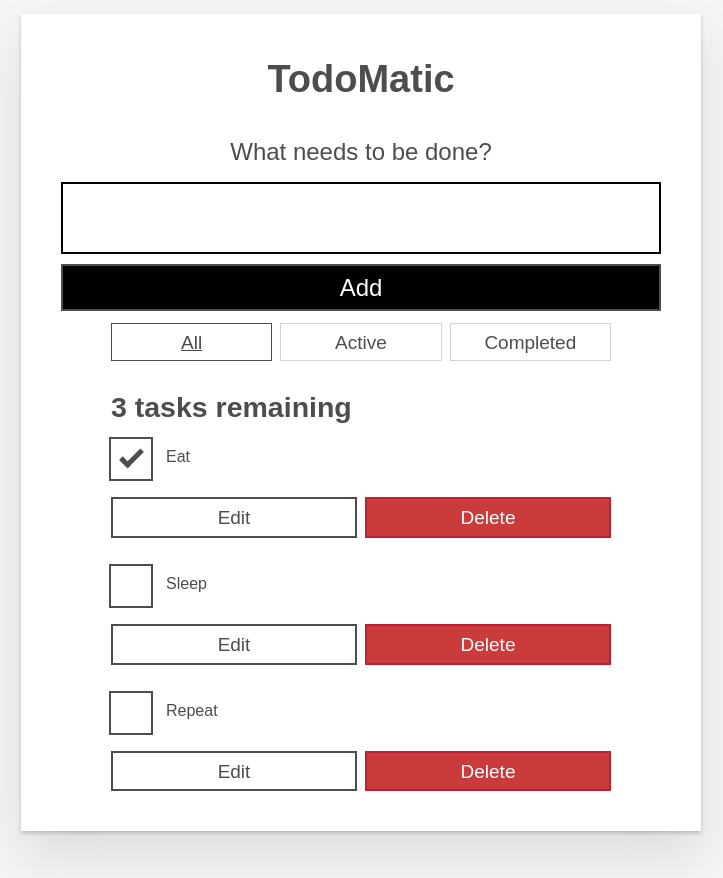
deletes a task
The image size is (723, 878).
Click the button named "Delete Repeat" at (488, 771), box [365,751,611,791]
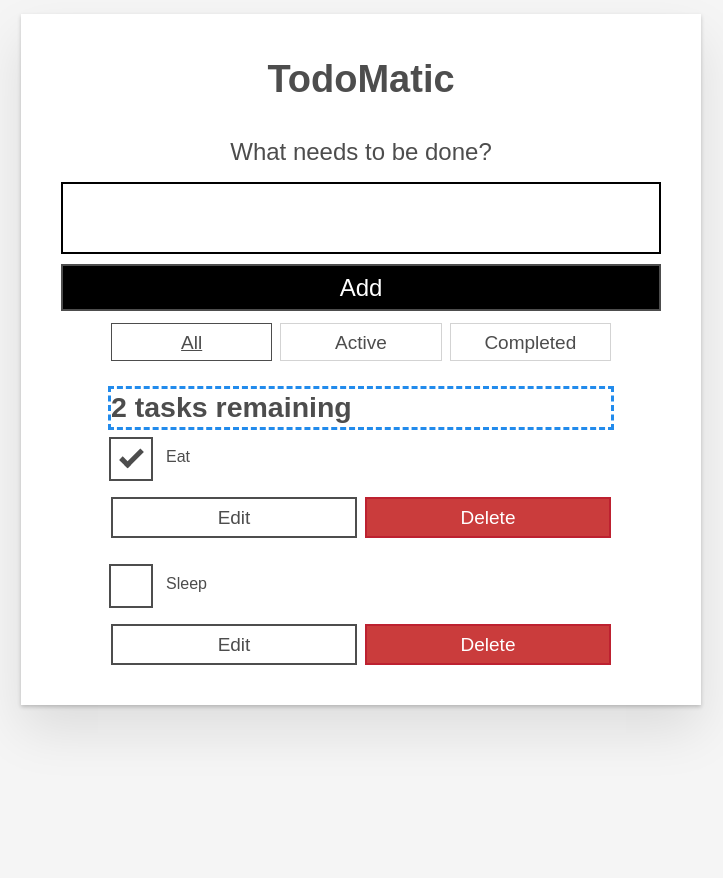
Expected: the checkbox labelled "Repeat" is gone
Expected: the heading "2 tasks remaining" is shown, [111,391,352,423]
